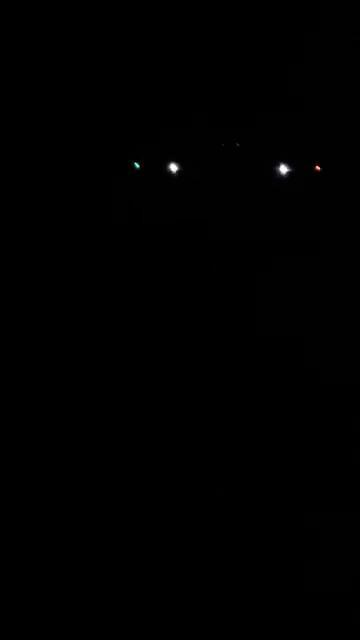Plane: (124, 123, 331, 188)
